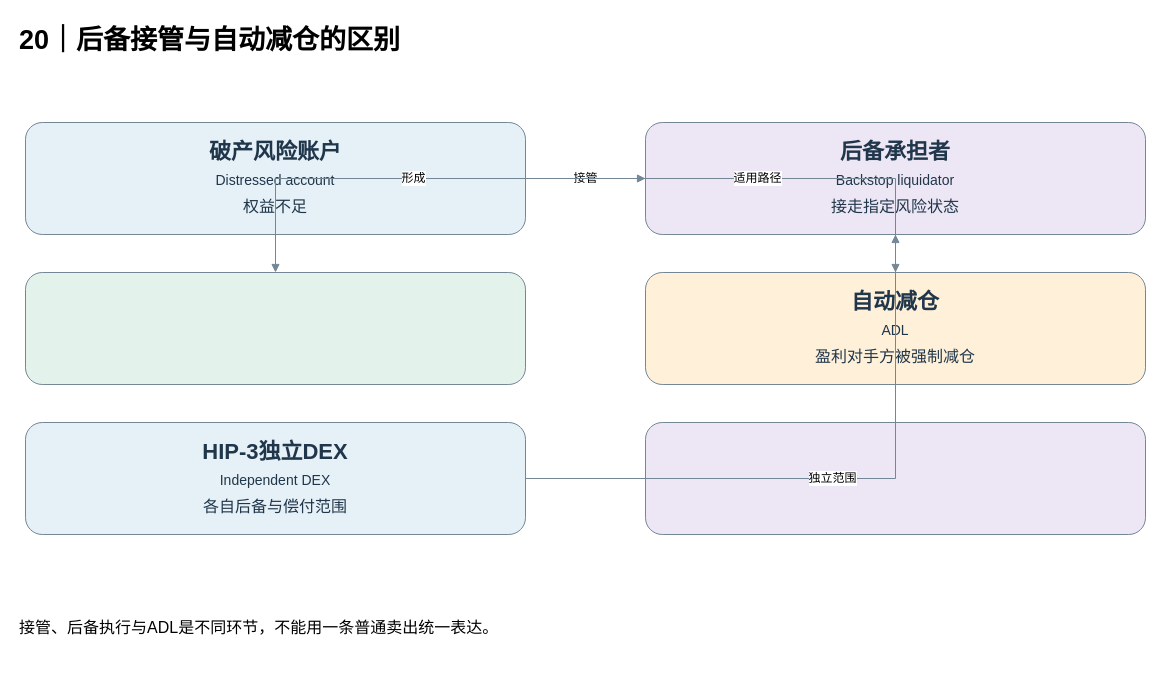
This 1170x690 diagram has some shape labels left out. Each missing label, with the centre of its shape:
"后备自身仓位 Transferred positions 继续承担价格与执行风险" belongs at point 275,328.
"组合借款清算 Portfolio borrow liquidation 现货借款无普通先走簿阶段" belongs at point 895,478.
